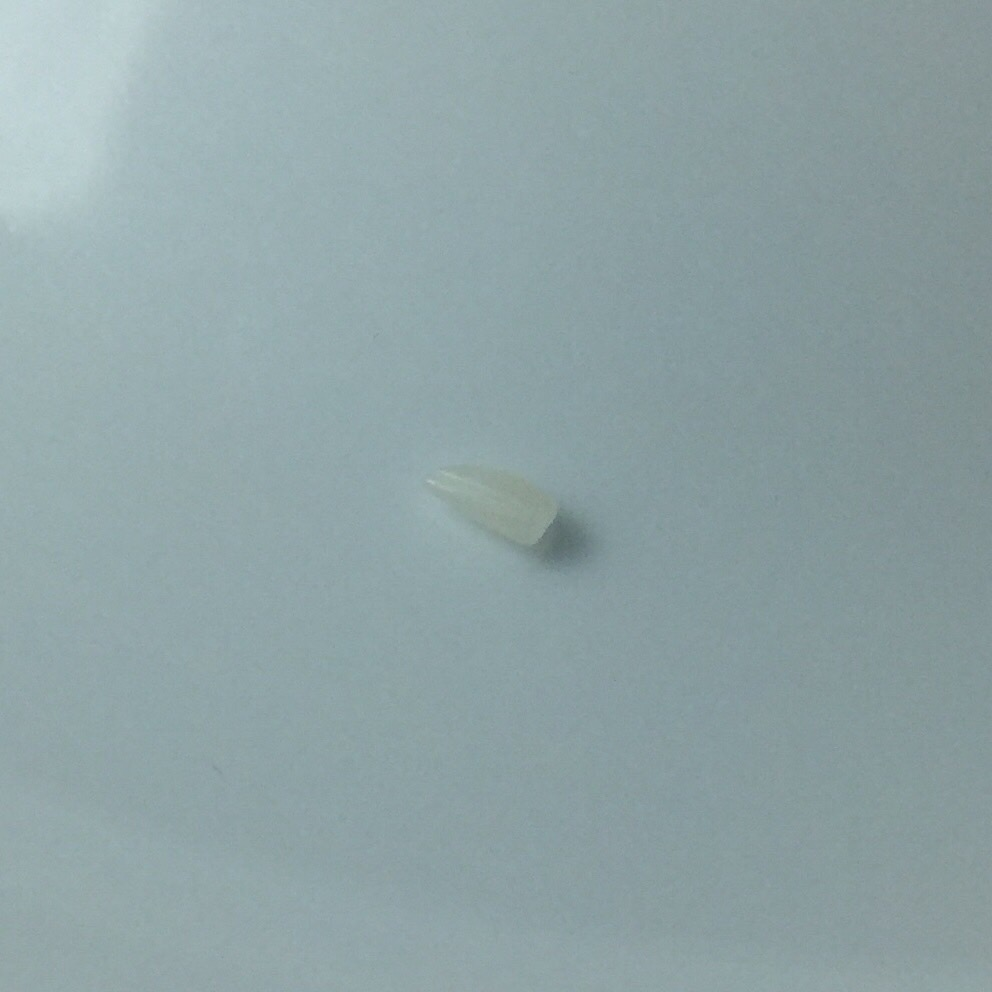Gao Tam: (418, 445, 587, 571)
